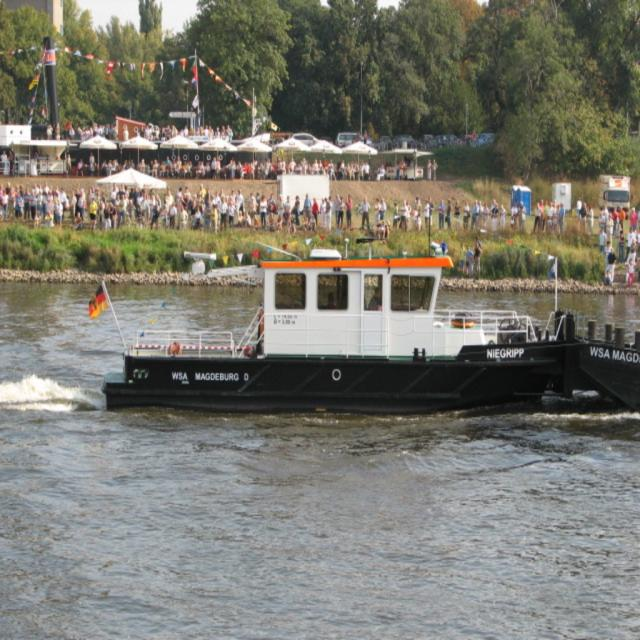Boat: (84, 224, 603, 409), (583, 331, 639, 408)
